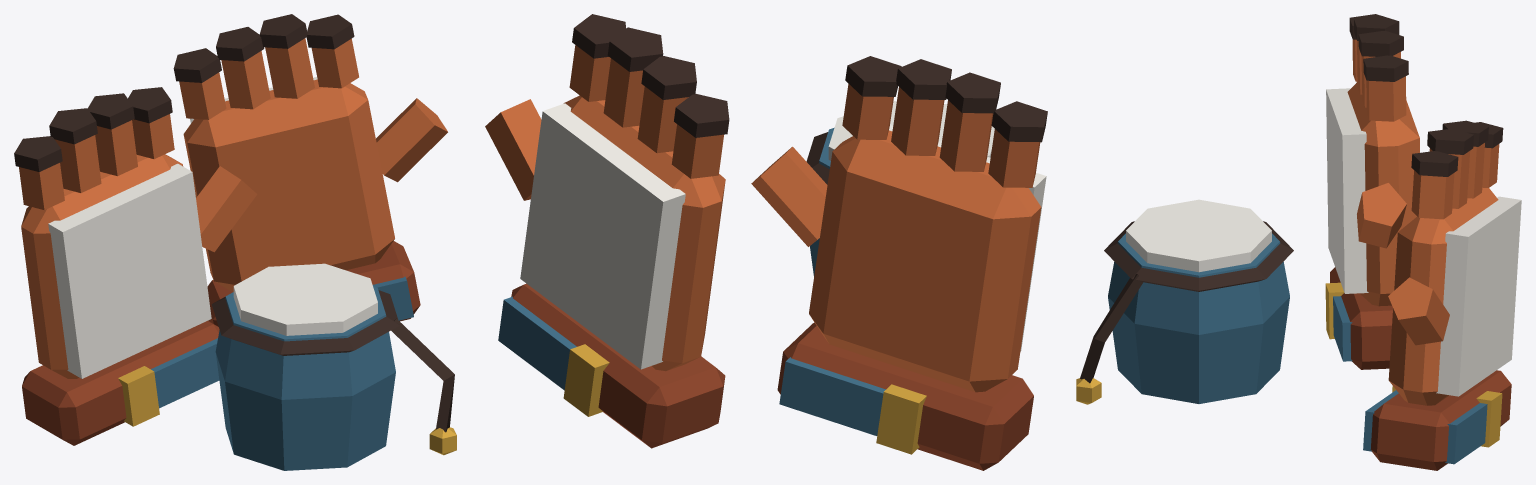
Rendered from grip_gloves.glb.
3 renders of one model, left to right at view 1: azimuth 30°, elevation 25°; view 2: azimuth 150°, elevation 25°; view 3: azimuth 270°, elevation 25°, orthographic. The views are drawn at different scales.
Parts seen in each view (by area): view 1: grip_gloves; view 2: grip_gloves; view 3: grip_gloves.
Part boxes in pixels (box(x1,y1,x2,y2)): grip_gloves: box(14, 14, 456, 470); grip_gloves: box(485, 14, 1047, 470); grip_gloves: box(1076, 14, 1521, 470).
Bounding box in the file's own units: 0.2498 × 0.1712 × 0.2199.
